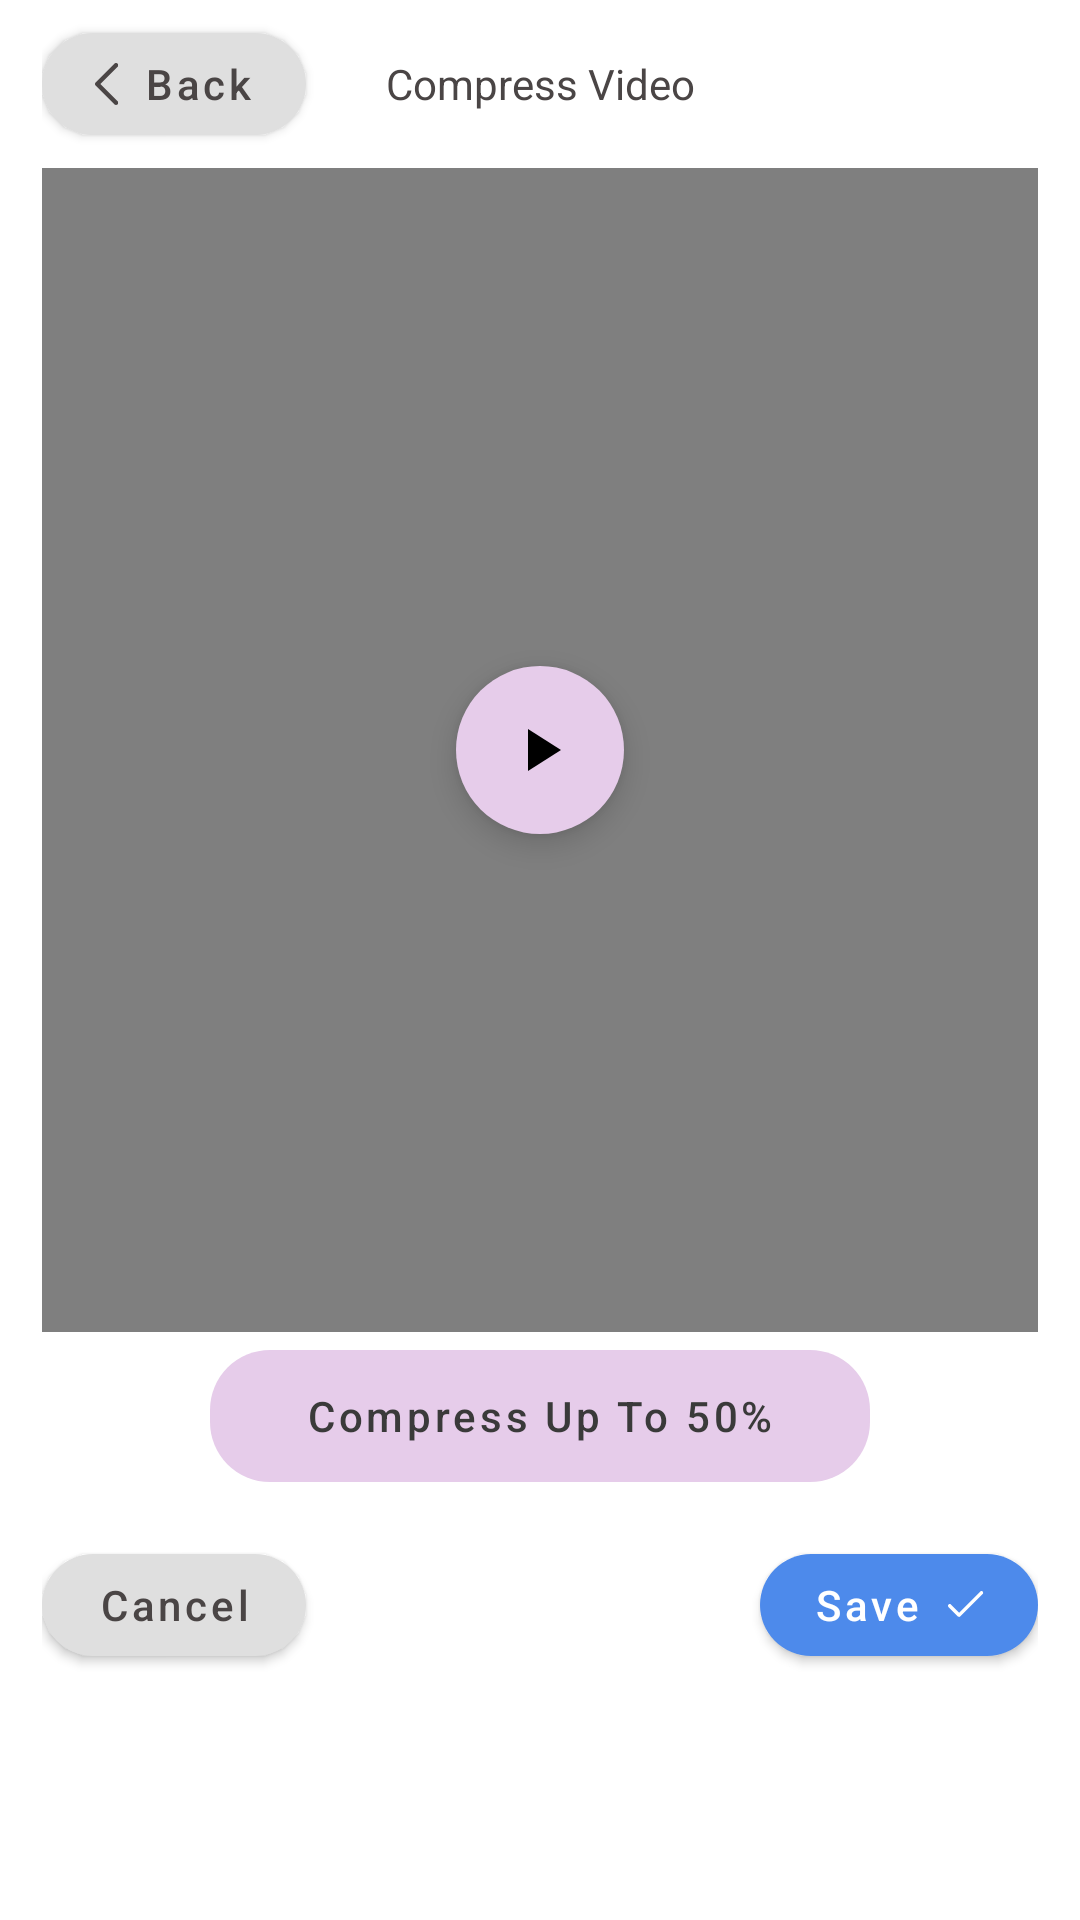

Screen size 1080w x 1920h. Icon name, then its center in pixels as (x,y):
play arrow: (540,750)
